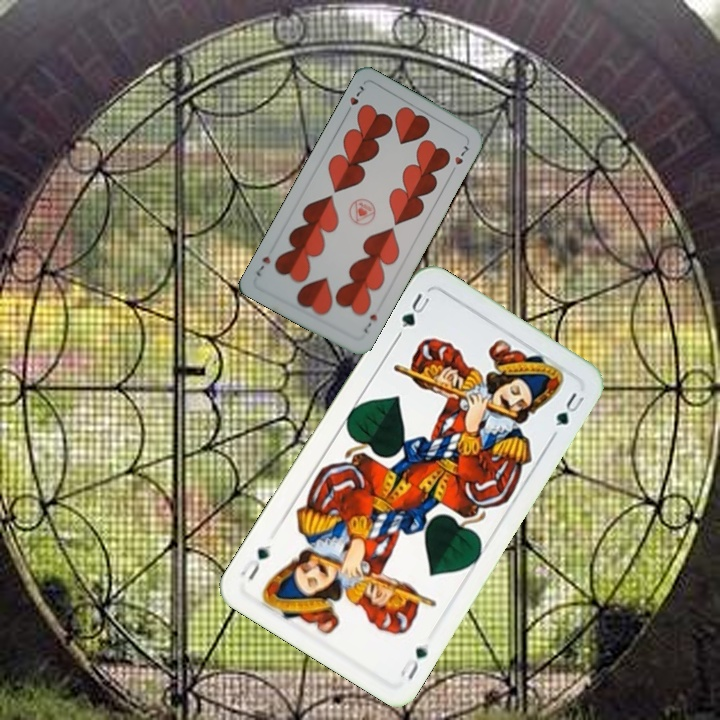GU: (397, 289, 433, 331), (396, 643, 431, 683)
H7: (342, 81, 368, 117), (360, 310, 380, 336)
